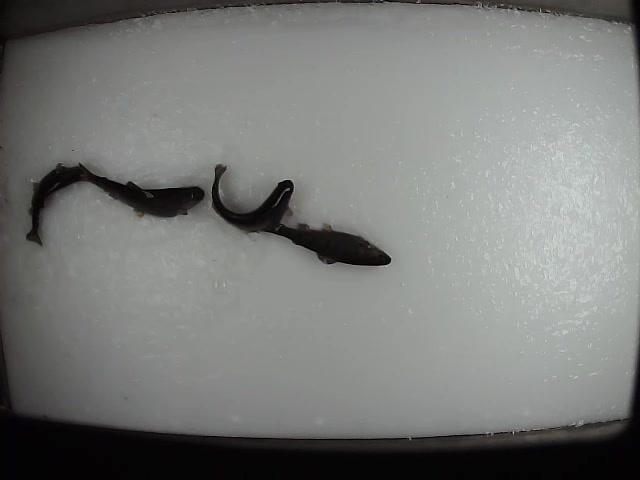fish: (73, 161, 209, 220), (209, 162, 297, 232), (264, 222, 392, 268), (24, 161, 87, 247)
